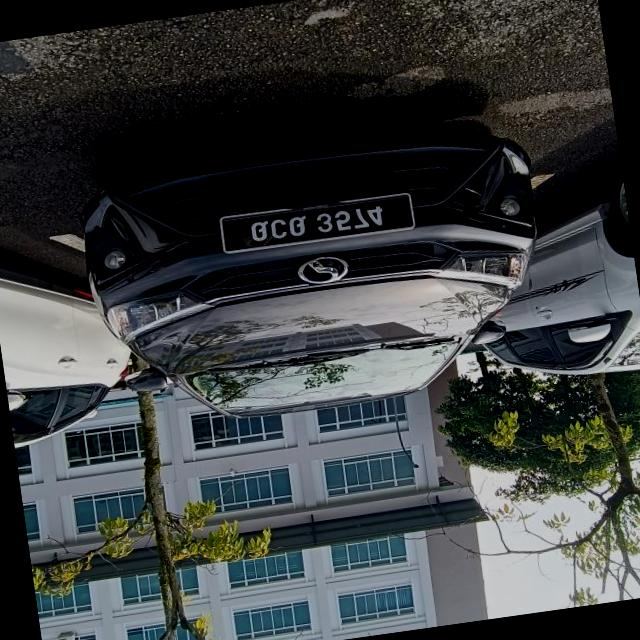PeroduaBezza: (72, 118, 562, 441)
